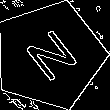N_SE: (17, 23, 82, 88)
